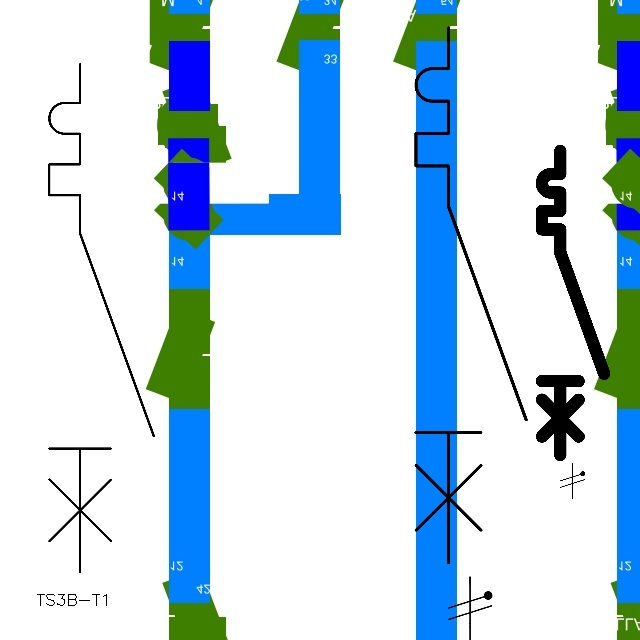interruptor_termomagnetico: (402, 14, 539, 576), (36, 51, 166, 584), (534, 143, 612, 463)
